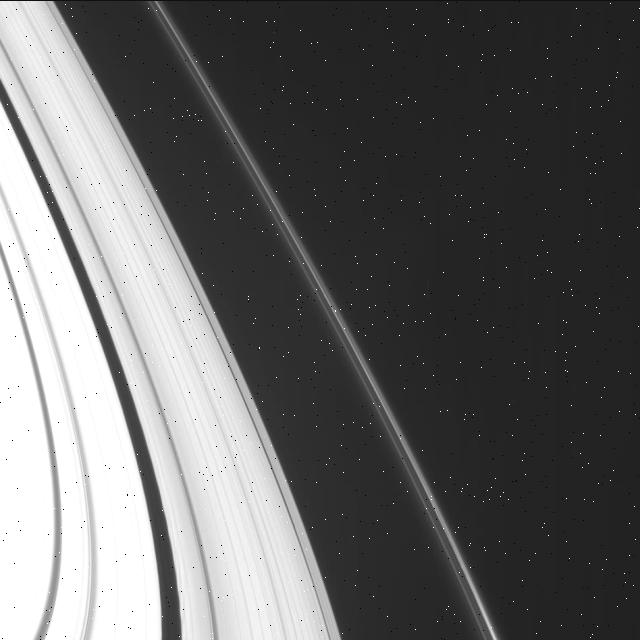Saturn: (0, 0, 515, 640)
